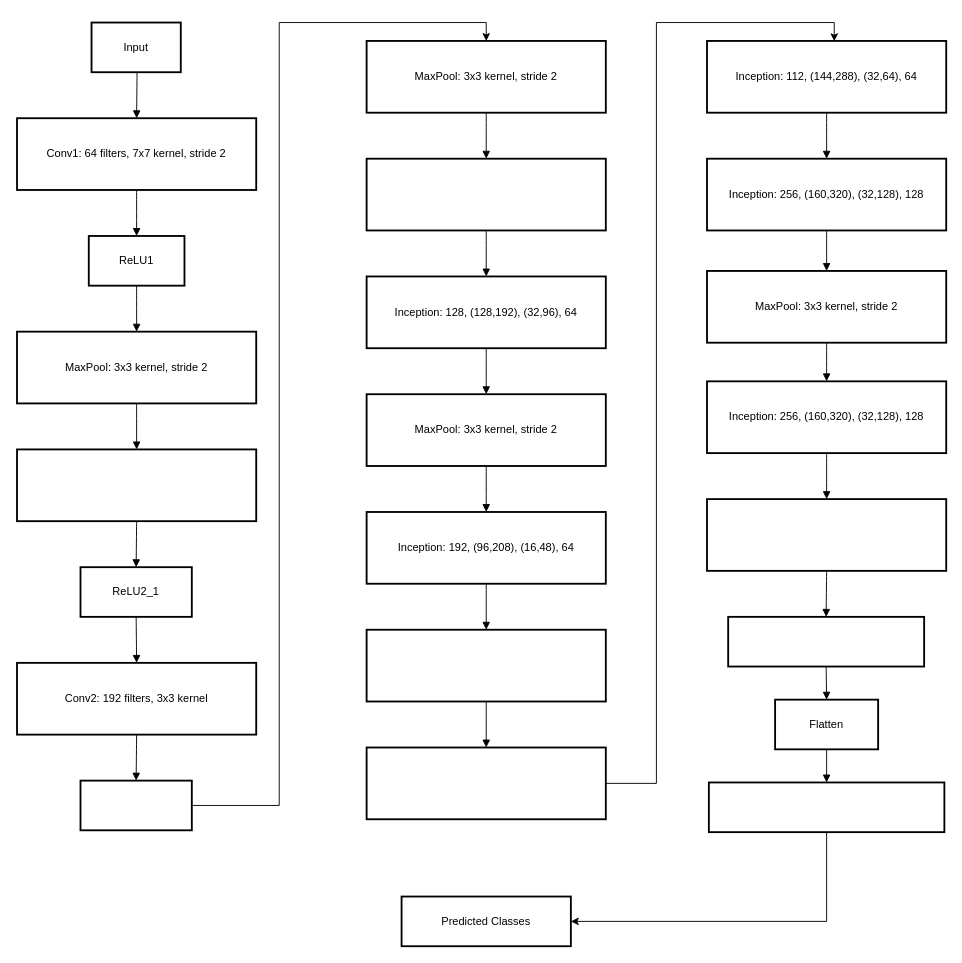
Image size: 962x963. Some labels were removed from this diagram. The shapes that lost their labels are listed below. From the top down, each one's centre as x and y in pixels, then its label:
point (485, 194): Inception: 64, (96,128), (16,32), 32
point (136, 485): Conv2: 64 filters, 1x1 kernel
point (826, 534): Inception: 384, (192,384), (48,128), 128
point (826, 641): AdaptiveAvgPool: 1x1
point (485, 665): Inception: 160, (112,224), (24,64), 64
point (485, 783): Inception: 128, (128,256), (24,64), 64
point (135, 805): ReLU2_2
point (826, 807): Fully Connected: 5 neurons
